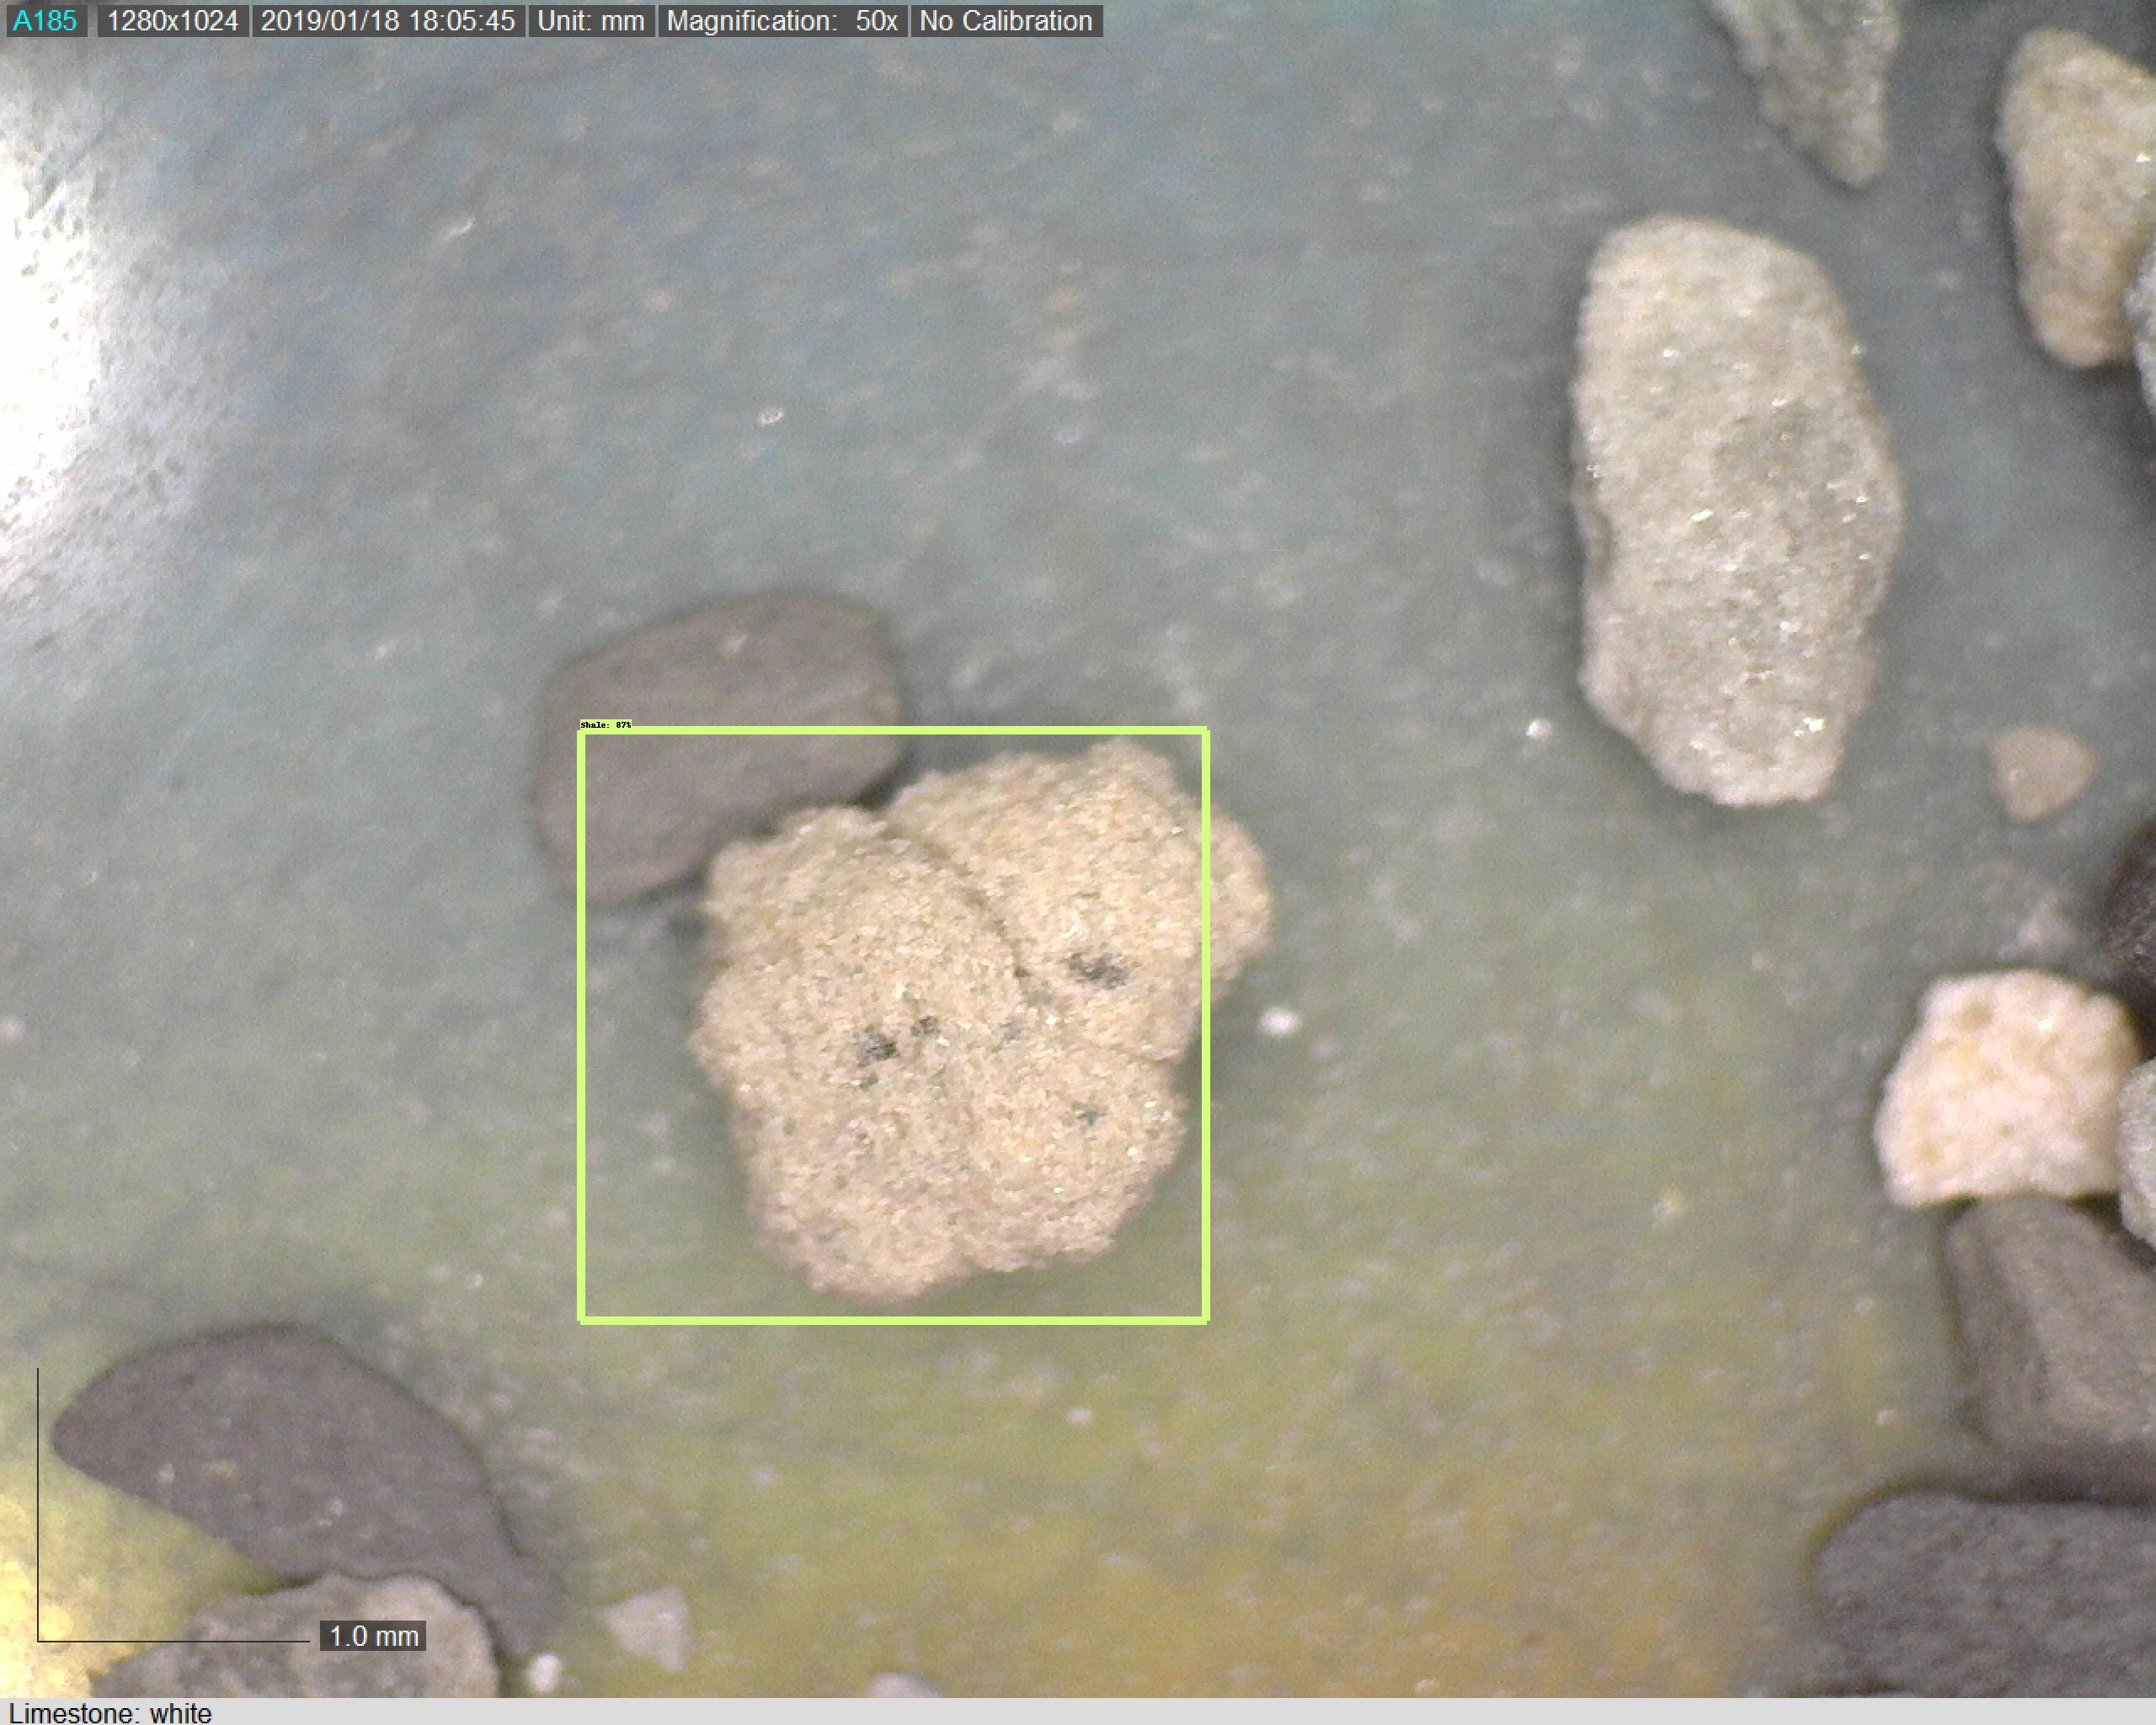Shale: (44, 1318, 565, 1581), (512, 588, 913, 794), (1793, 1473, 2145, 1699)
